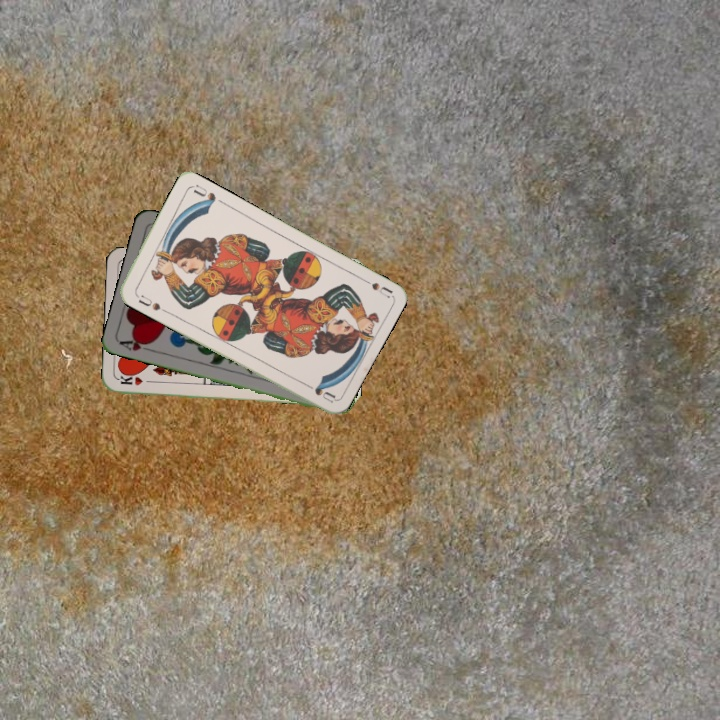HA: (116, 334, 157, 355)
HK: (116, 372, 157, 388)
SU: (355, 273, 394, 299), (134, 291, 168, 315)
